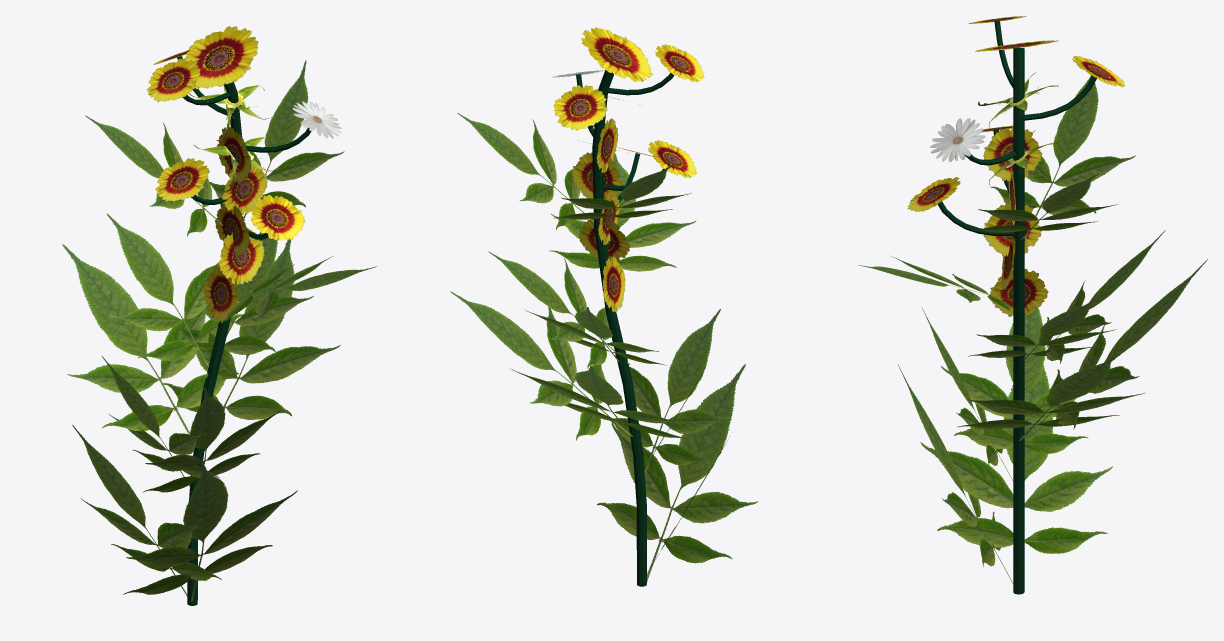
File: flower-1.fbx
3 renders of one model, left to right at view 1: azimuth 30°, elevation 25°; view 2: azimuth 150°, elevation 25°; view 3: azimuth 270°, elevation 25°, orthographic. The views are drawn at different scales.
Visible parts, largest first — view 1: Mesh; view 2: Mesh; view 3: Mesh.
Part boxes in pixels (x1,y1,x2,y2): Mesh: [62, 26, 377, 605]; Mesh: [450, 27, 758, 586]; Mesh: [858, 16, 1207, 594].
Bounding box in the file's own units: 116 × 205 × 125.
